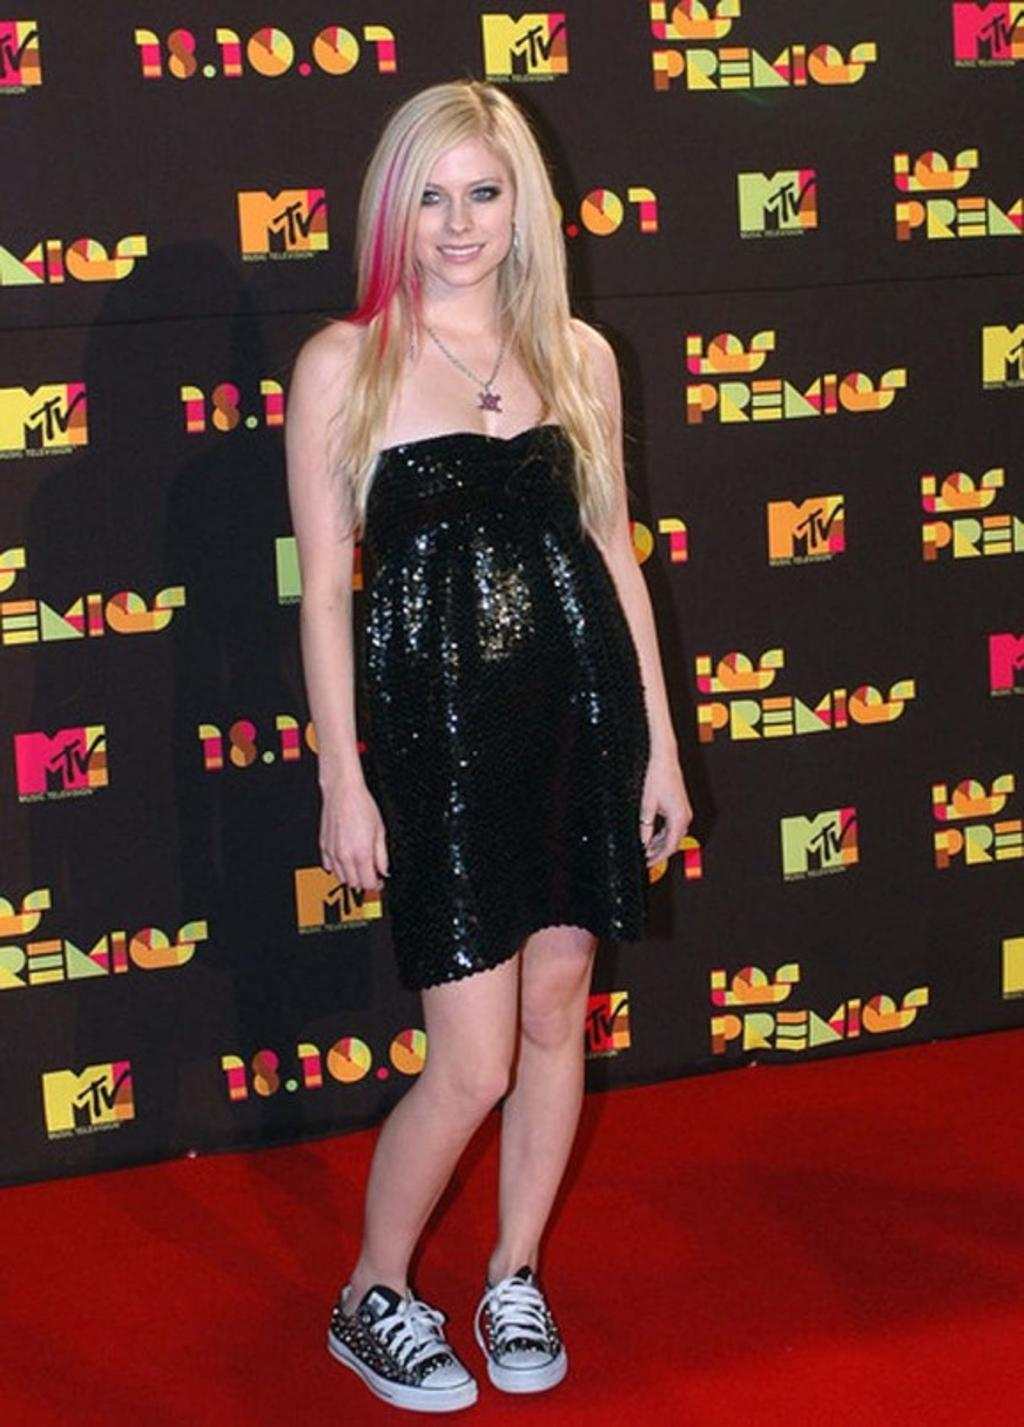face: (395, 139, 515, 286)
